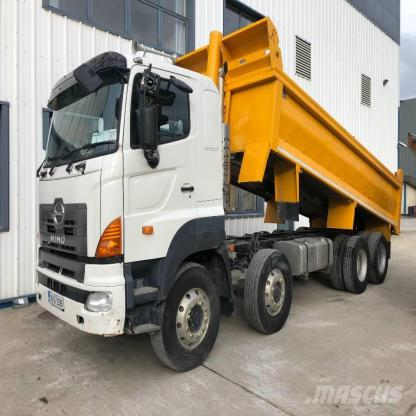dump_truck: (30, 10, 404, 378)
